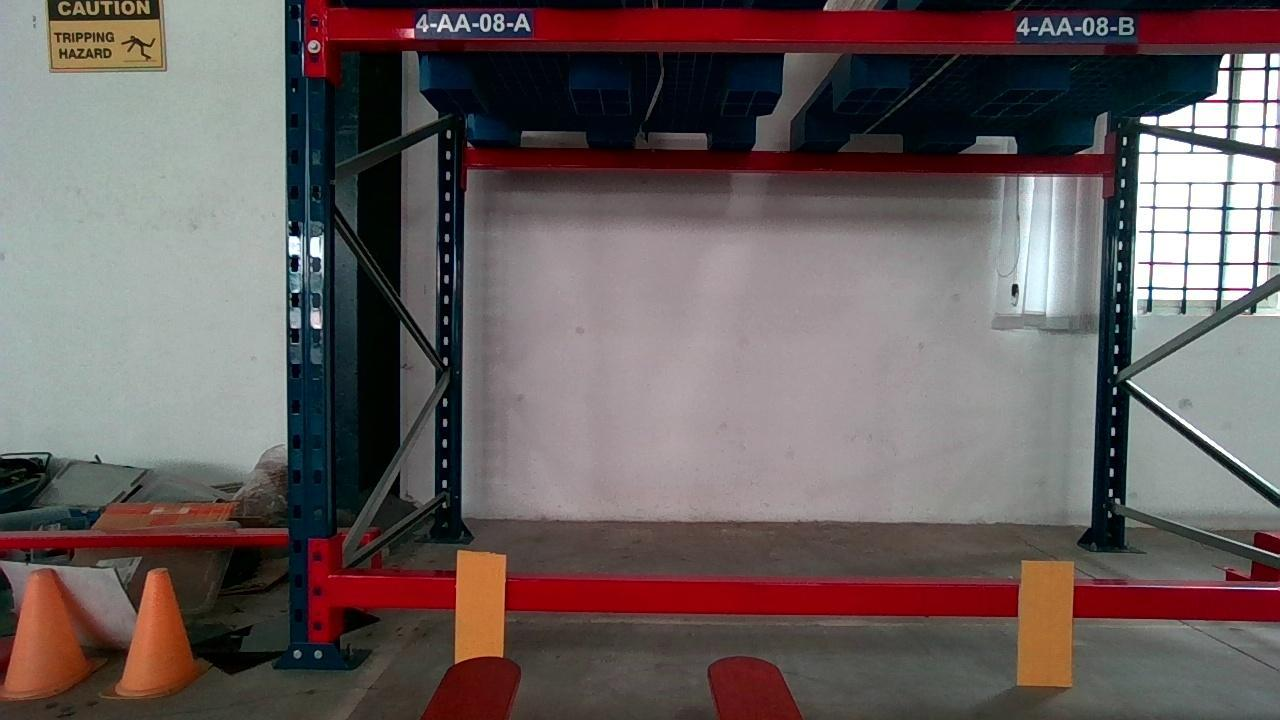h_rack: (327, 576, 1280, 624), (324, 7, 1280, 46)
orange_strip: (1019, 560, 1076, 687), (454, 548, 506, 661)
